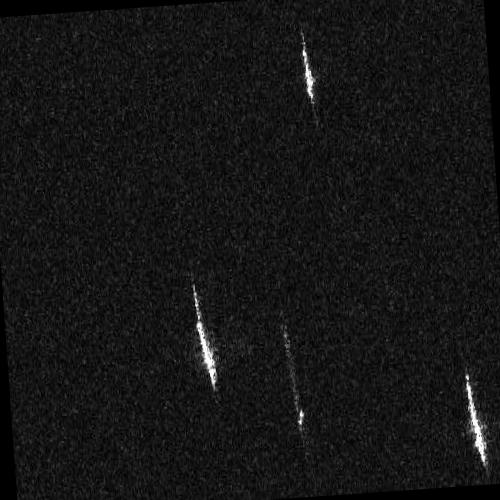ship: (192, 284, 218, 389), (464, 371, 488, 469), (283, 334, 304, 428), (301, 34, 314, 103)
